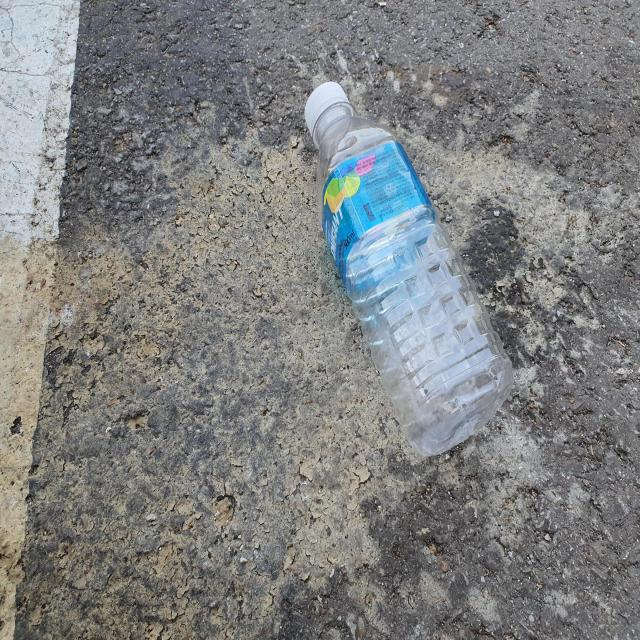plastic: (305, 81, 514, 456)
